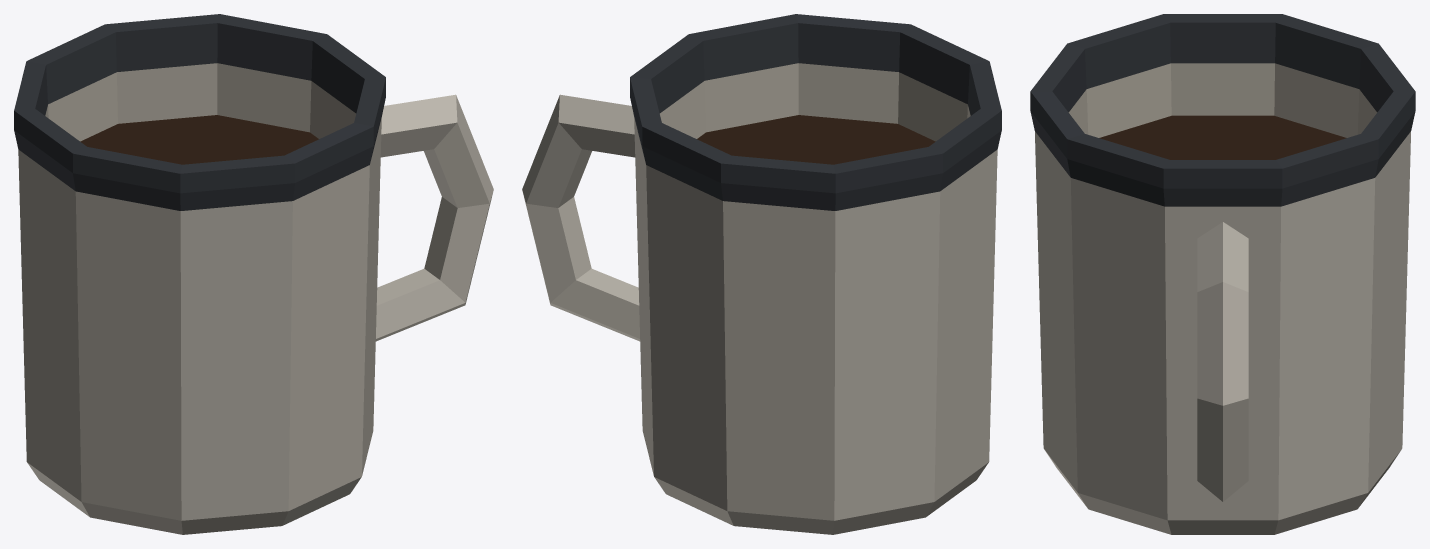
Rendered from tl_prop_mug_white_v01.glb.
3 renders of one model, left to right at view 1: azimuth 30°, elevation 25°; view 2: azimuth 150°, elevation 25°; view 3: azimuth 270°, elevation 25°, orthographic.
Visible parts, largest first — view 1: tl_prop_mug_white_v01; view 2: tl_prop_mug_white_v01; view 3: tl_prop_mug_white_v01.
Part boxes in pixels (x1,y1,x2,y2): tl_prop_mug_white_v01: (14,14,493,534); tl_prop_mug_white_v01: (522,14,1001,534); tl_prop_mug_white_v01: (1030,14,1415,534).
Size of the model in its own units: 0.1204 by 0.095 by 0.088.
